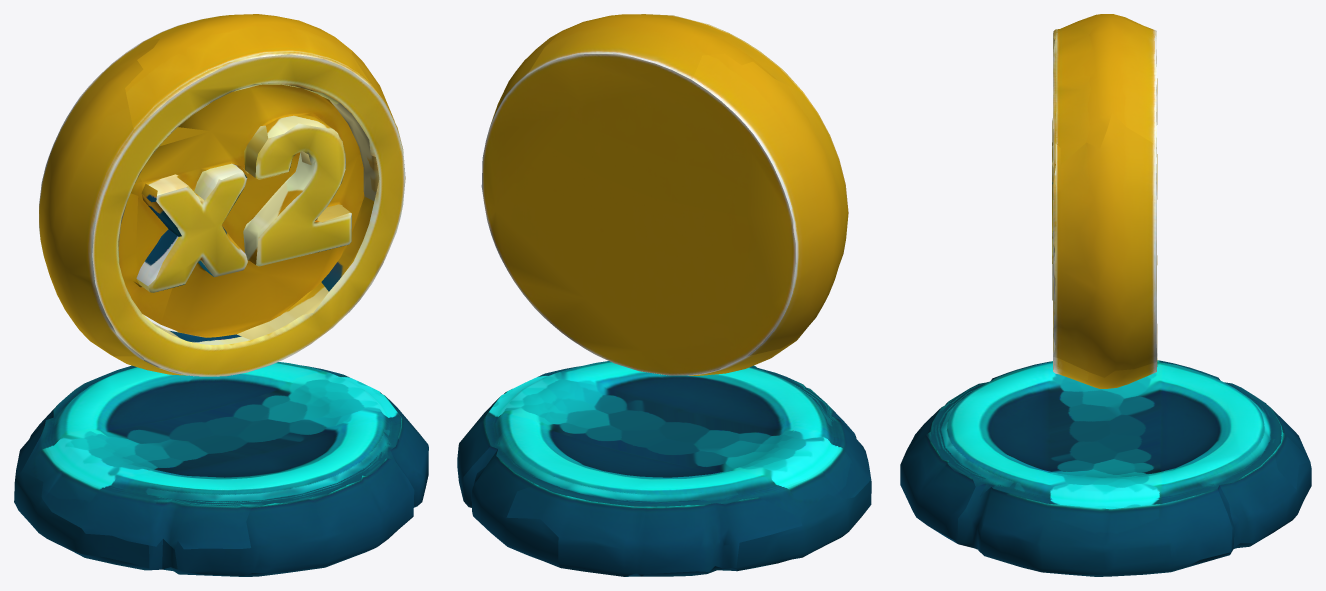
3 views of the same model, side by side, from view 1: azimuth 30°, elevation 25°; view 2: azimuth 150°, elevation 25°; view 3: azimuth 270°, elevation 25° (orthographic). The views are drawn at different scales.
Parts seen in each view (by area): view 1: tmpbq5mhy87.ply; view 2: tmpbq5mhy87.ply; view 3: tmpbq5mhy87.ply.
Boxes of the visible parts, bbox=[...] form: tmpbq5mhy87.ply: bbox=[14, 14, 428, 576]; tmpbq5mhy87.ply: bbox=[457, 14, 871, 576]; tmpbq5mhy87.ply: bbox=[900, 14, 1311, 576].
Size of the model in its own units: 162 by 199 by 161.
Materials: 1 (1 with a texture image).
